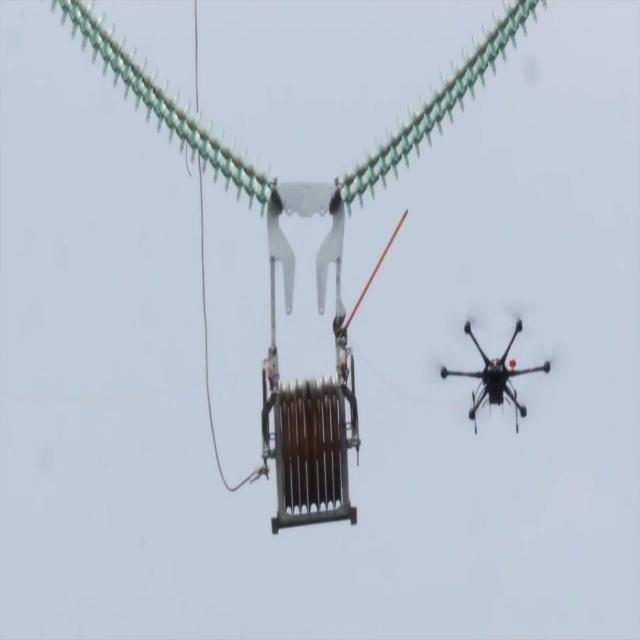UAV: (440, 316, 550, 434)
